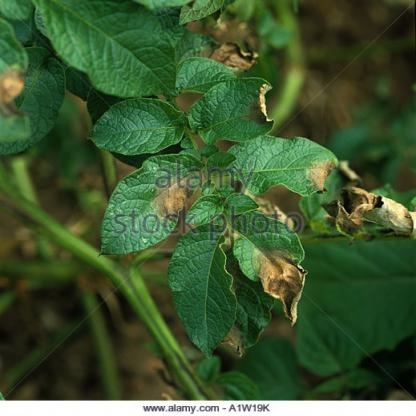potato leaf late blight: (95, 151, 203, 253), (234, 215, 306, 330), (208, 244, 274, 357), (229, 134, 333, 203), (188, 79, 273, 142), (174, 43, 260, 86)
